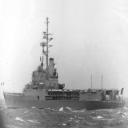Portanaves: (2, 19, 128, 112)
